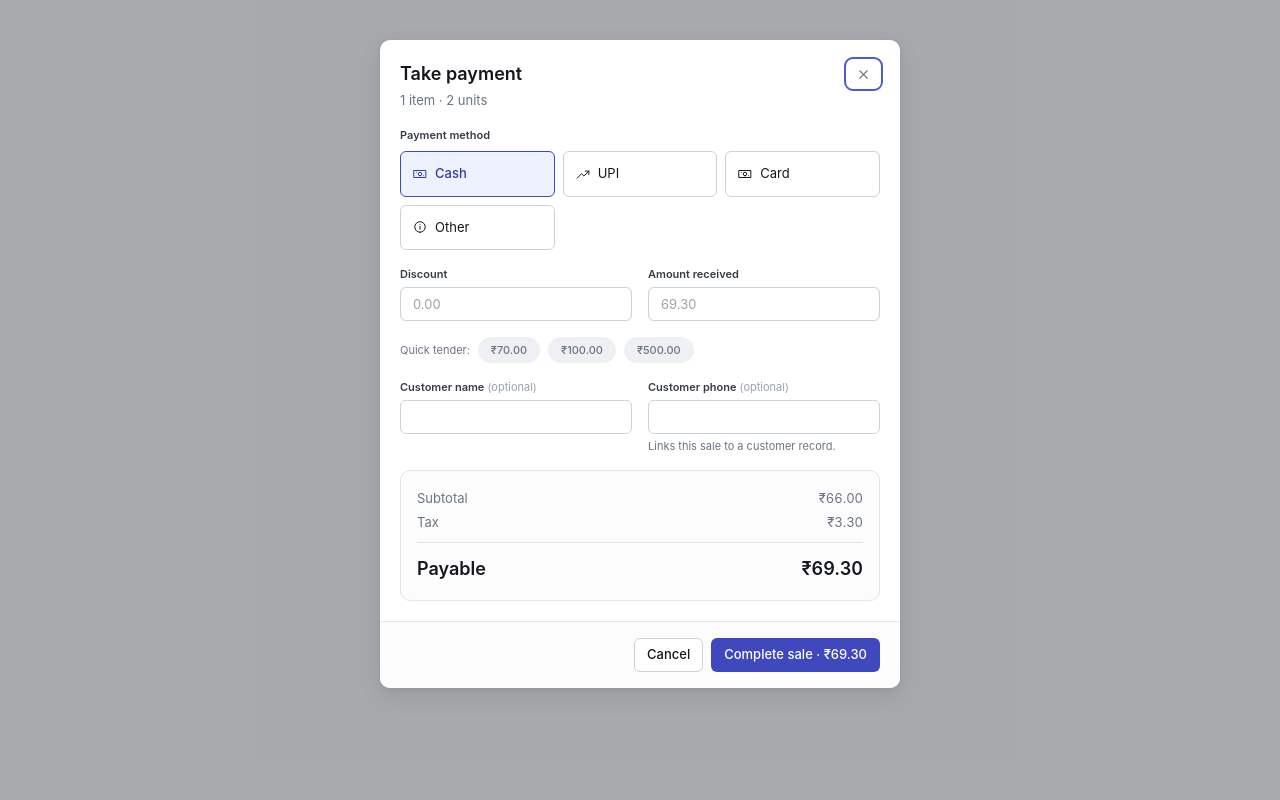
Test case: Checkout modal › surfaces a rejected checkout instead of pretending it worked
Click the button "Complete sale · ₹69.30": (796, 655) [711,638,880,672]
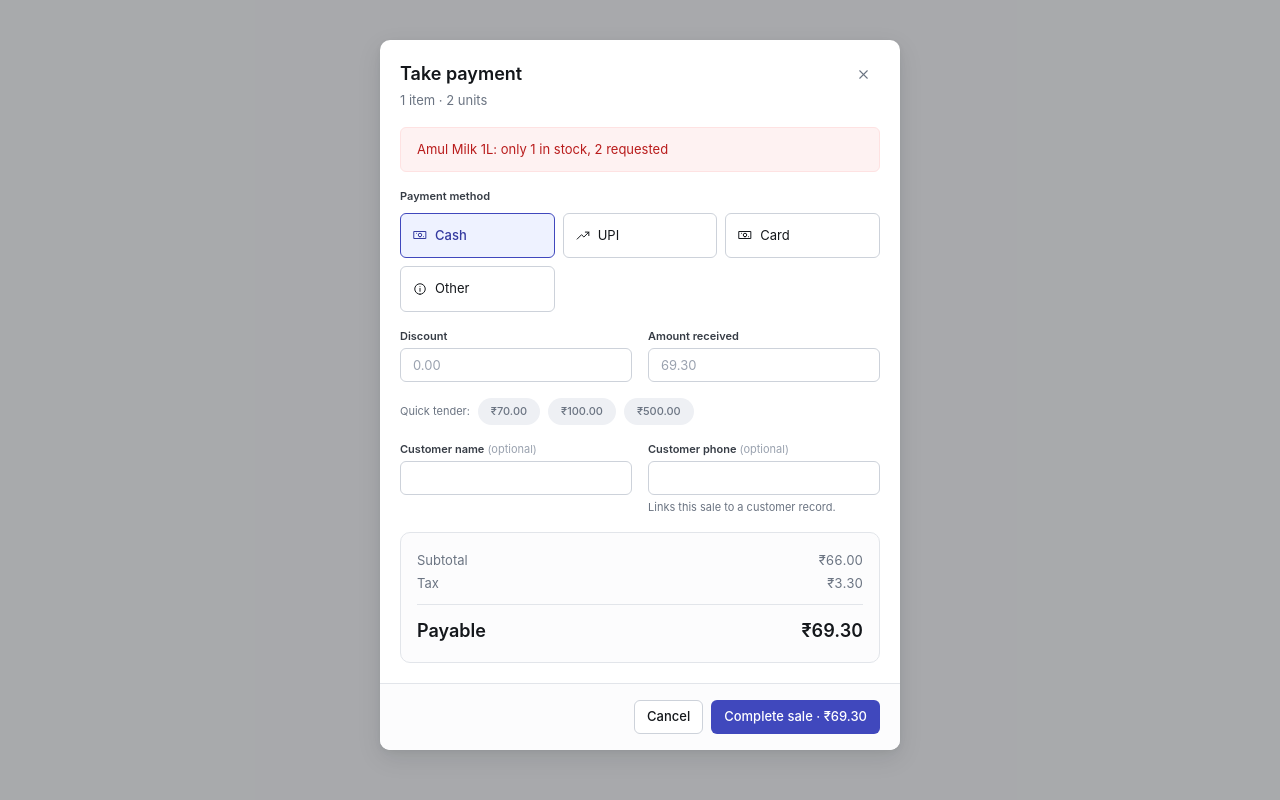
expect the message shows "only 1 in stock": met, box [417,140,668,156]
